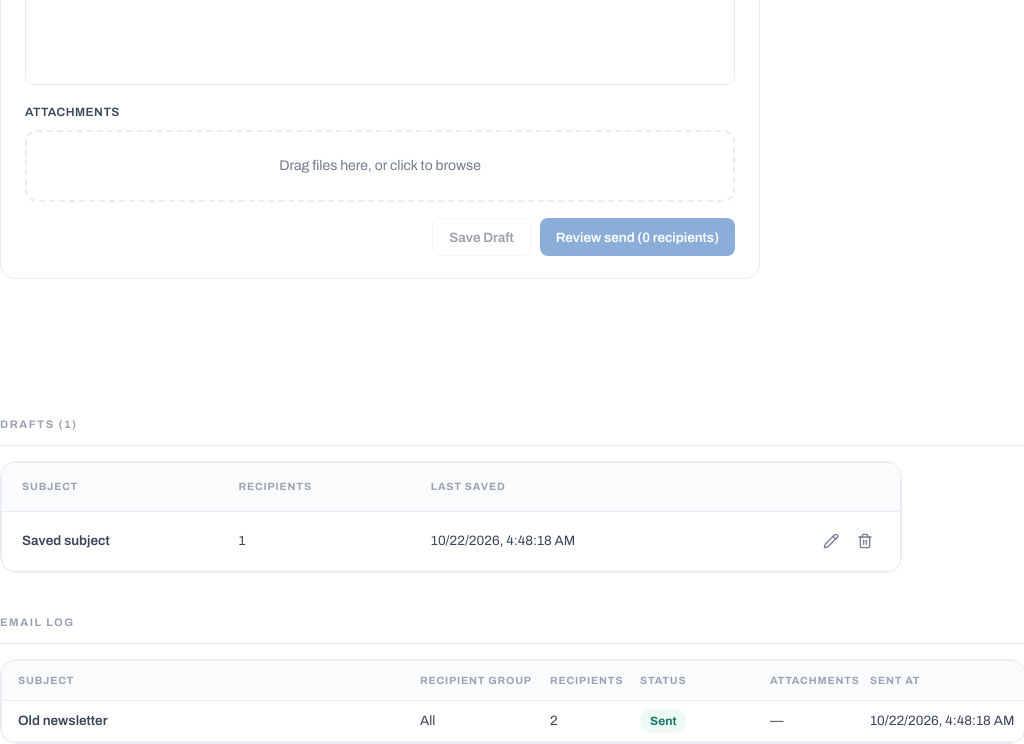
Test: MembersEmail › Drafts (Story 16.19) › clears the New Draft button after resuming an edit and clicking it
The width and height of the screenshot is (1024, 744).
(page scrolled)
Click the button named "Edit draft".
click(831, 541)  # box 816,526 -> 846,556
(page scrolled)
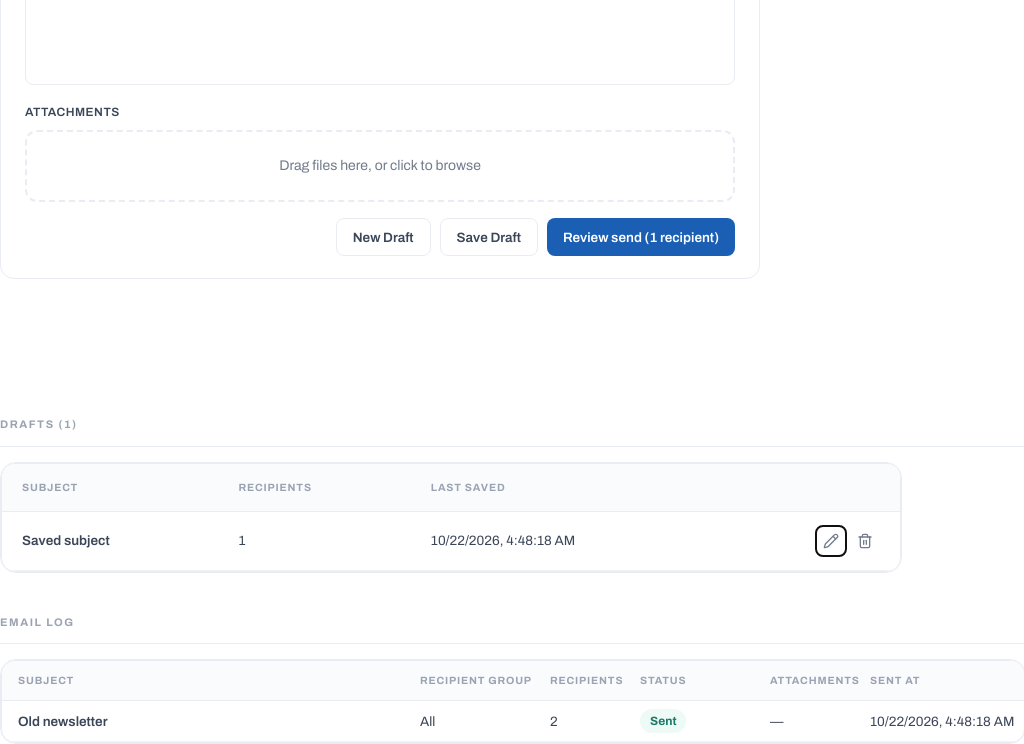
Click the button "New Draft".
click(383, 237)  # box 336,218 -> 431,256
(page scrolled)
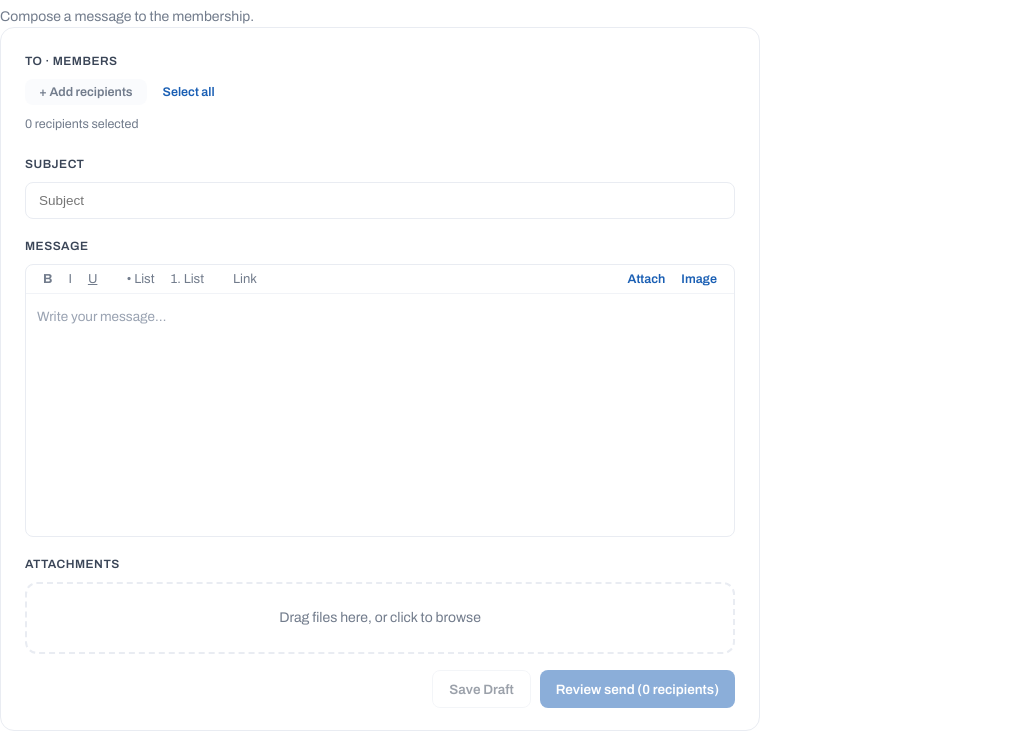
Expected: the field with placeholder "Subject" is empty, 25,182 -> 735,219
Expected: the button "New Draft" is gone
